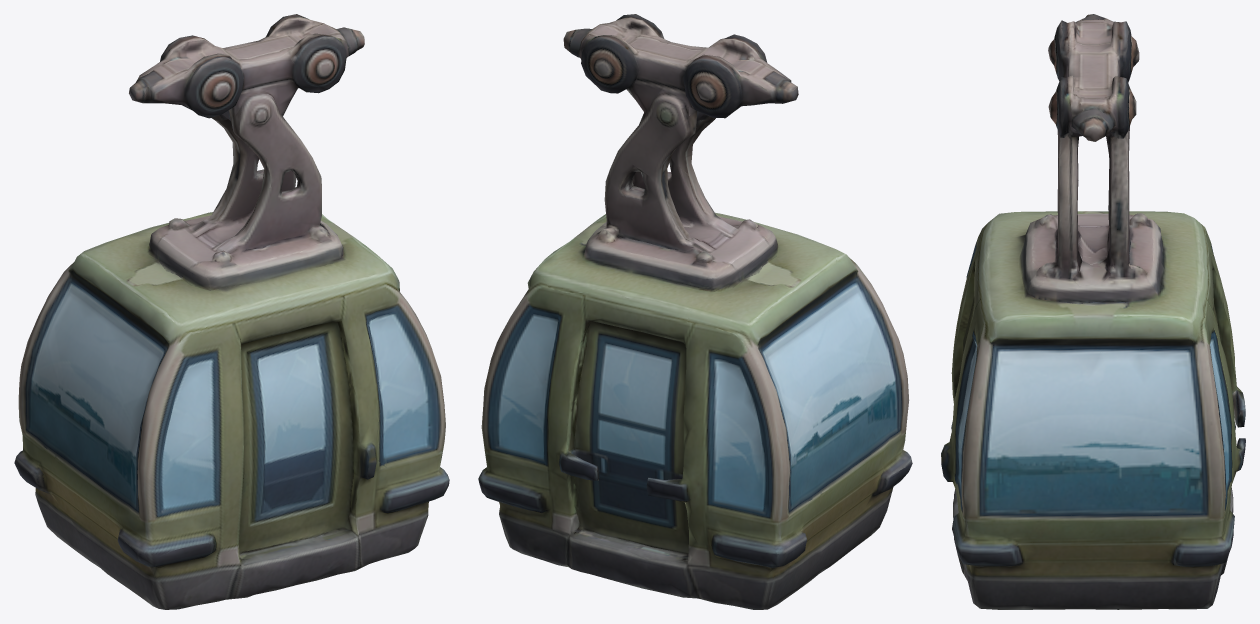
The model's file is 남산_케이블카.glb.
The picture shows the model from 3 angles, left to right: view 1: azimuth 30°, elevation 25°; view 2: azimuth 150°, elevation 25°; view 3: azimuth 270°, elevation 25°; orthographic projection.
Parts seen in each view (by area): view 1: texture_mapping; view 2: texture_mapping; view 3: texture_mapping.
Boxes of the visible parts, left/top/right/bottom form: texture_mapping: left=14, top=14, right=449, bottom=609; texture_mapping: left=478, top=14, right=912, bottom=609; texture_mapping: left=941, top=14, right=1245, bottom=609.
Bounding box in the file's own units: 0.6521 × 0.9984 × 0.5426.
Materials: 1 (1 with a texture image).
